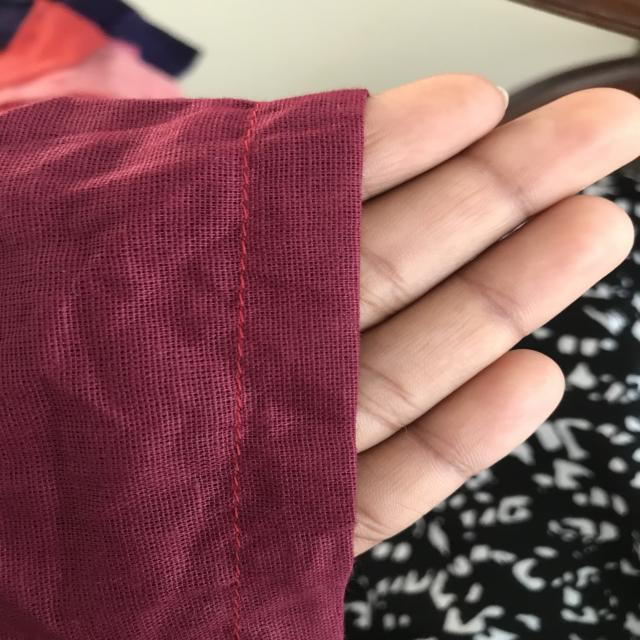good: (216, 281, 257, 372)
